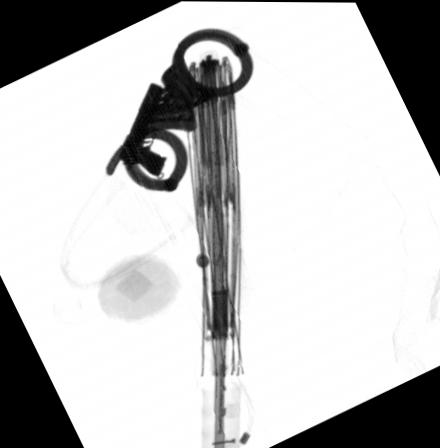Gun: (116, 79, 167, 178)
HandCuffs: (101, 24, 255, 192)
